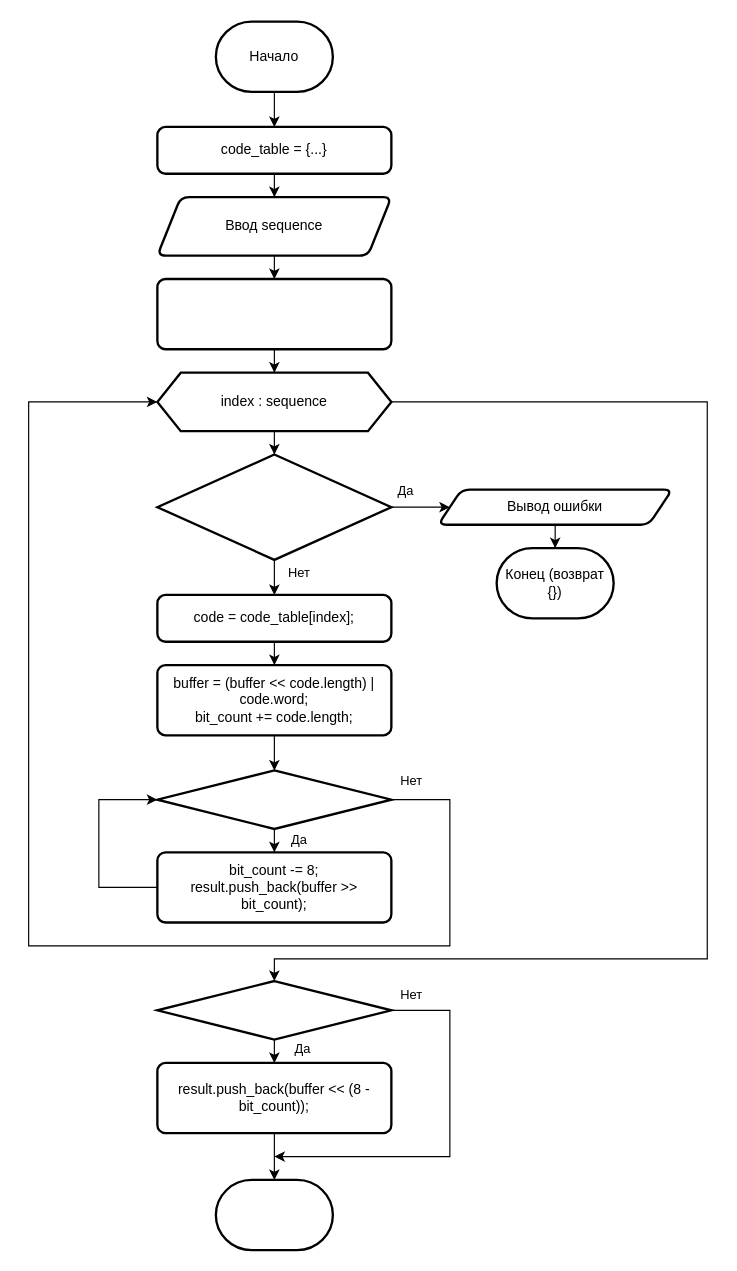
This 737x1271 diagram has some shape labels left out. Here are the shapes that lost their labels. From the top down, the centre of each, then its label:
At [274,313]: "result[]; uint32_t buffer = 0; bit_count = 0;".
At [274,506]: "index не входит в code_table? index < 0 || index >= code_table.size()".
At [274,799]: "bit_count >= 8".
At [274,1009]: "bit_count > 0".
At [273,1214]: "Конец (возврат result )".
